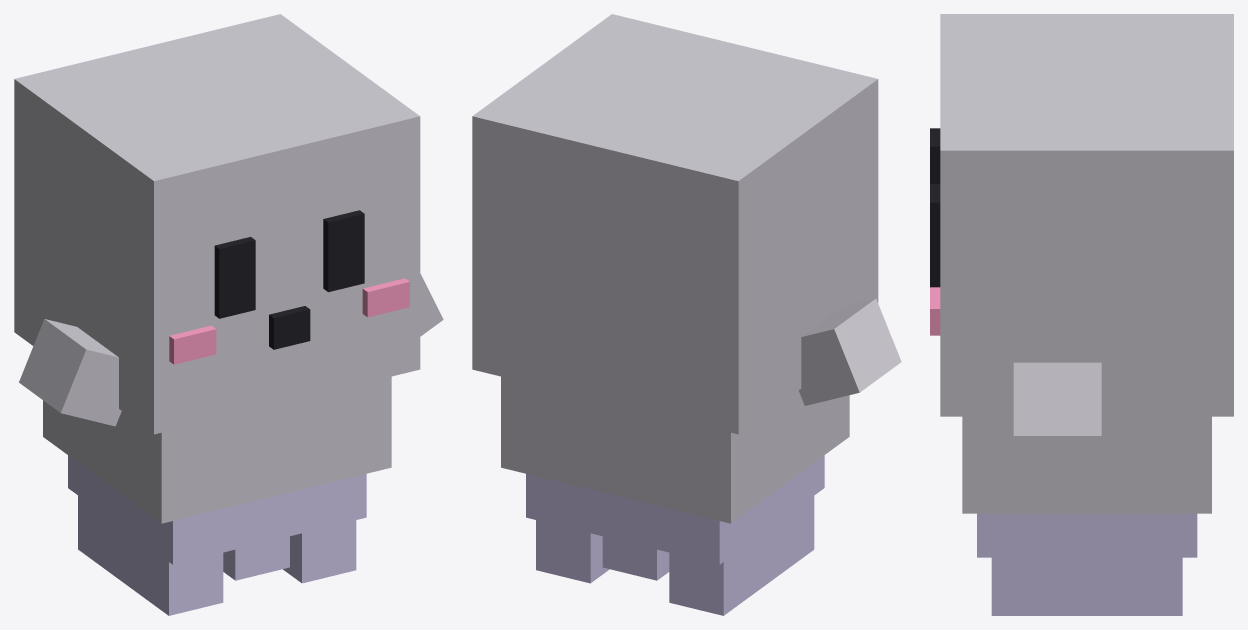
File: Ghost.fbx
The picture shows the model from 3 angles, left to right: view 1: azimuth 30°, elevation 25°; view 2: azimuth 150°, elevation 25°; view 3: azimuth 270°, elevation 25°; orthographic projection. The views are drawn at different scales.
Parts seen in each view (by area): view 1: Ghost.001, GhostShade, Coal.003, Blush; view 2: Ghost.001, GhostShade; view 3: Ghost.001, GhostShade, Coal.003, Blush.
Part boxes in pixels (x1=…): Ghost.001: x1=14, y1=14, x2=443, y2=523; GhostShade: x1=68, y1=455, x2=366, y2=615; Coal.003: x1=214, y1=210, x2=364, y2=349; Blush: x1=169, y1=278, x2=409, y2=364; Ghost.001: x1=472, y1=14, x2=901, y2=523; GhostShade: x1=526, y1=455, x2=824, y2=615; Ghost.001: x1=940, y1=14, x2=1233, y2=513; GhostShade: x1=977, y1=513, x2=1197, y2=615; Coal.003: x1=930, y1=128, x2=940, y2=287; Blush: x1=930, y1=287, x2=940, y2=335.
Bounding box in the file's own units: 3.16 × 3.65 × 2.07.
